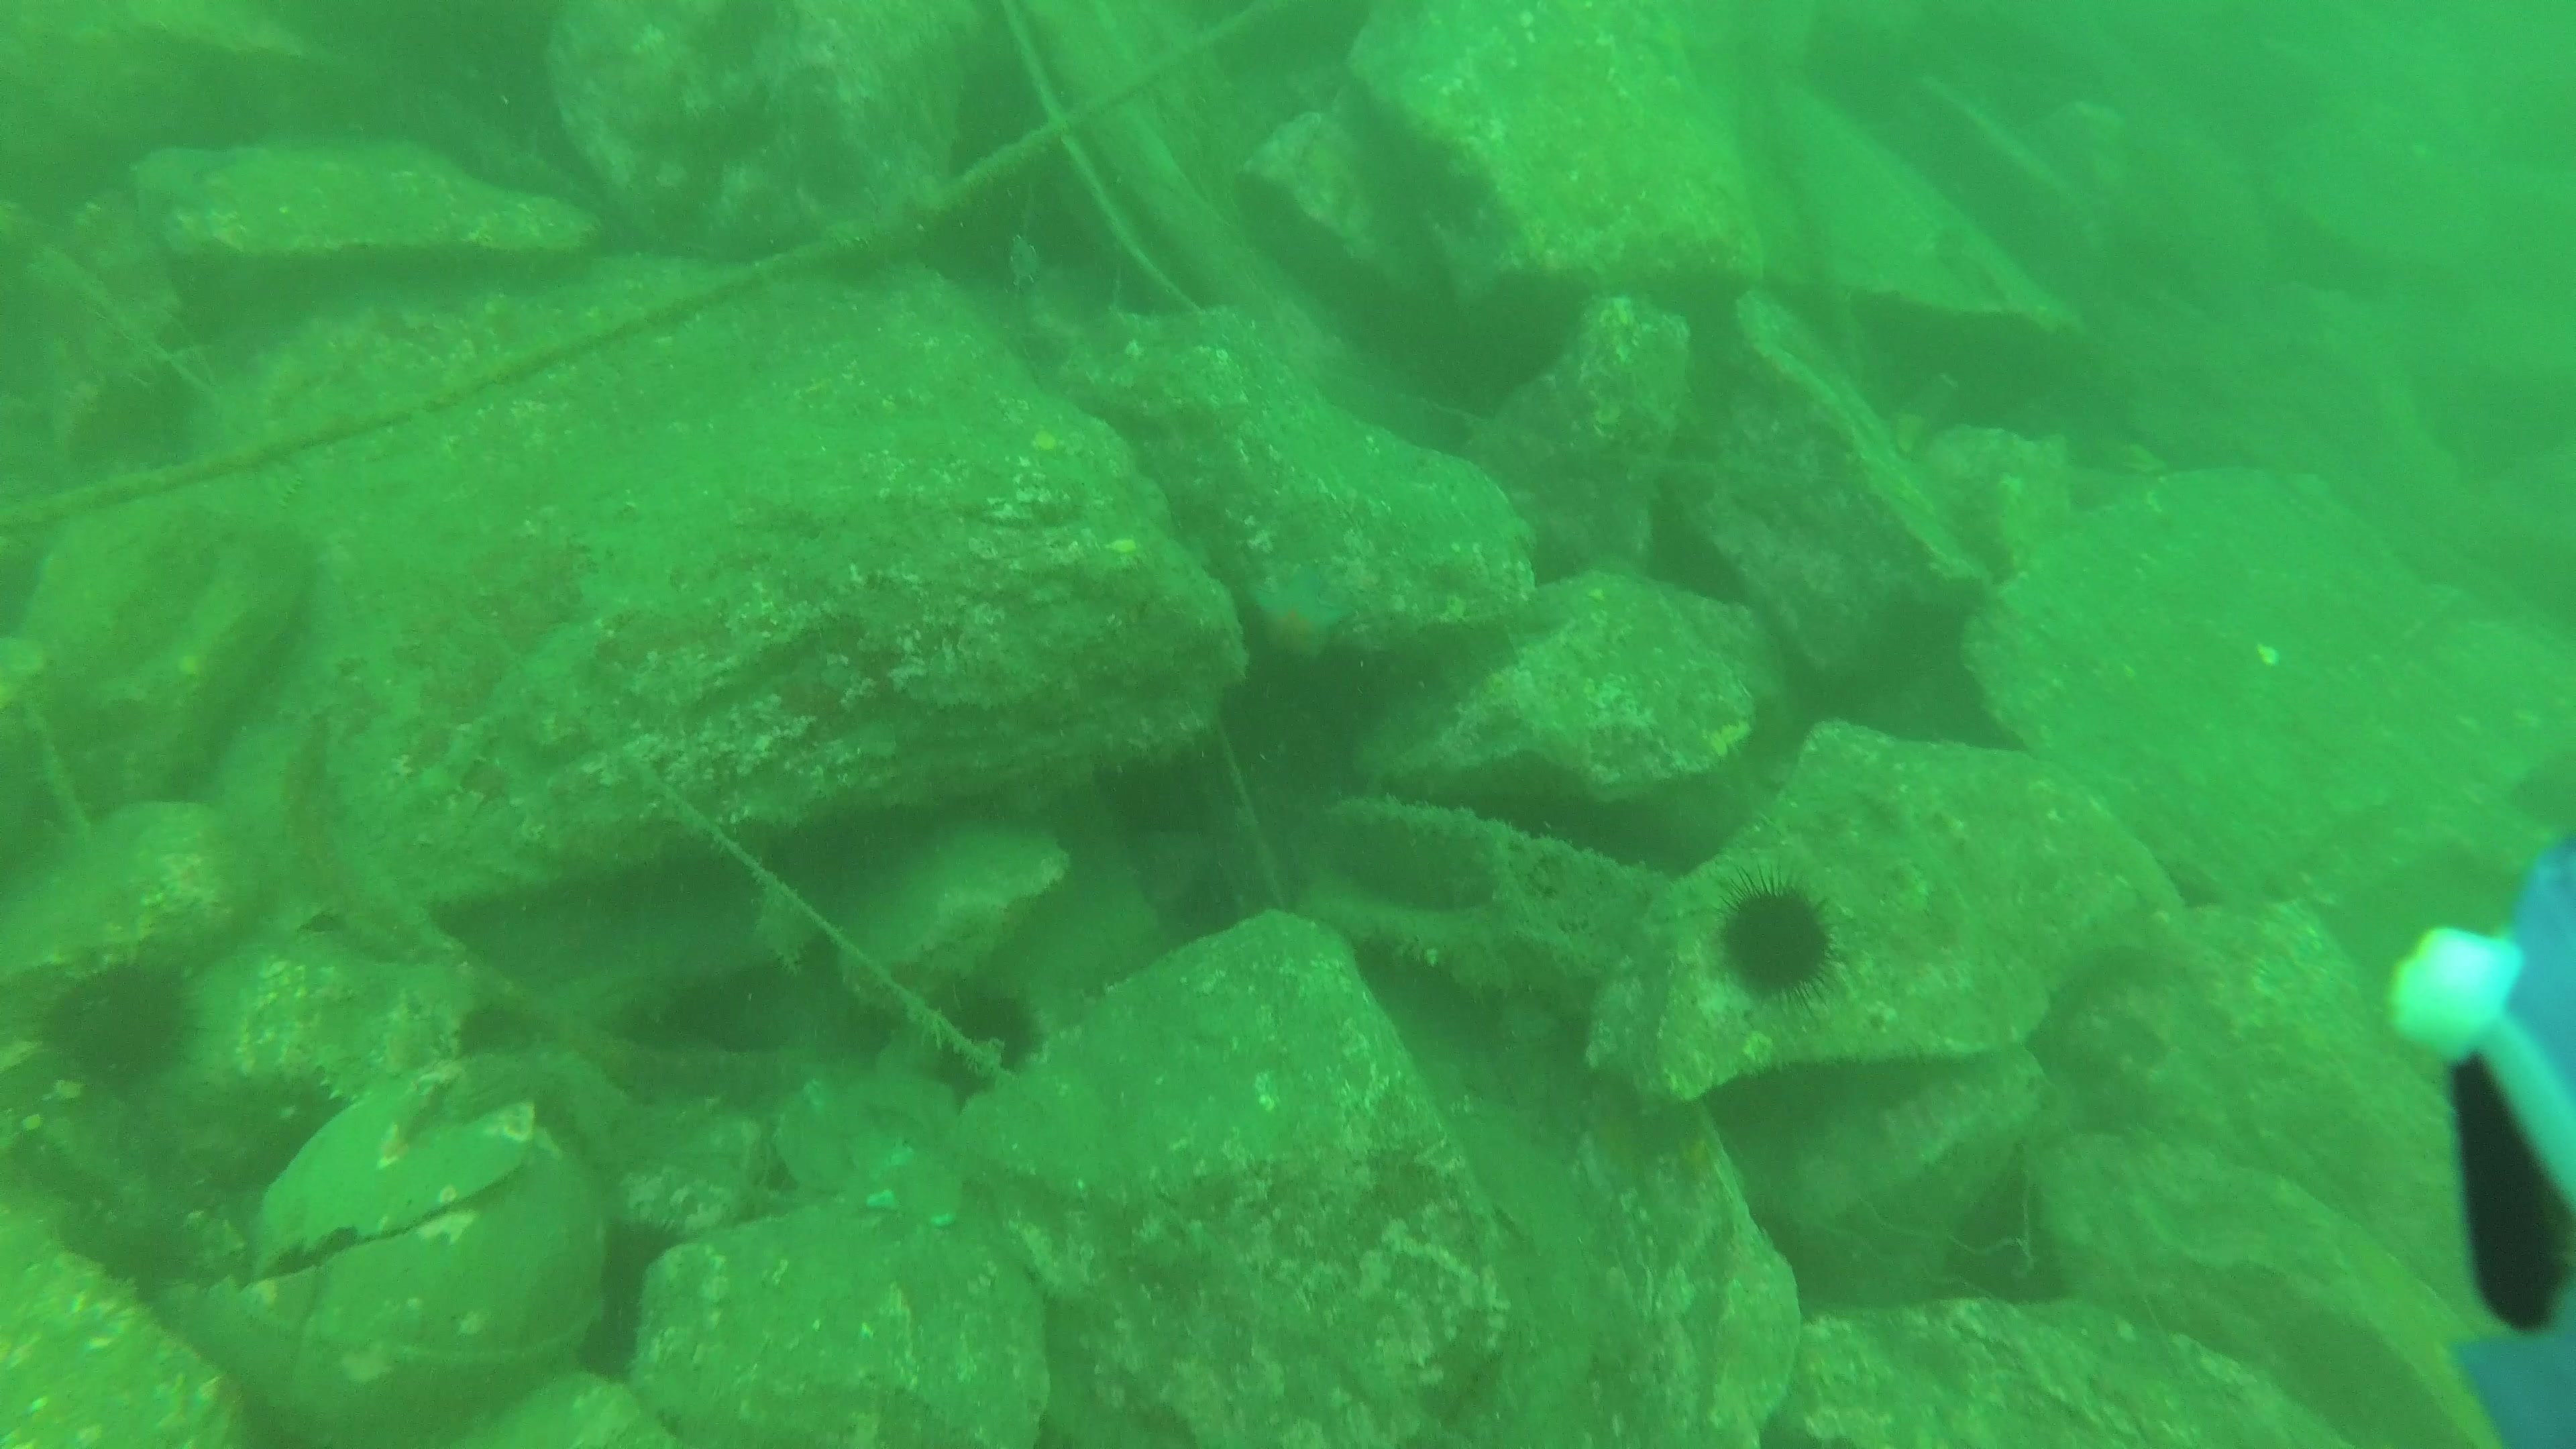echinus: (34, 961, 203, 1093), (1707, 867, 1849, 1016), (924, 978, 1046, 1104)
starfish: (1237, 556, 1352, 674)
